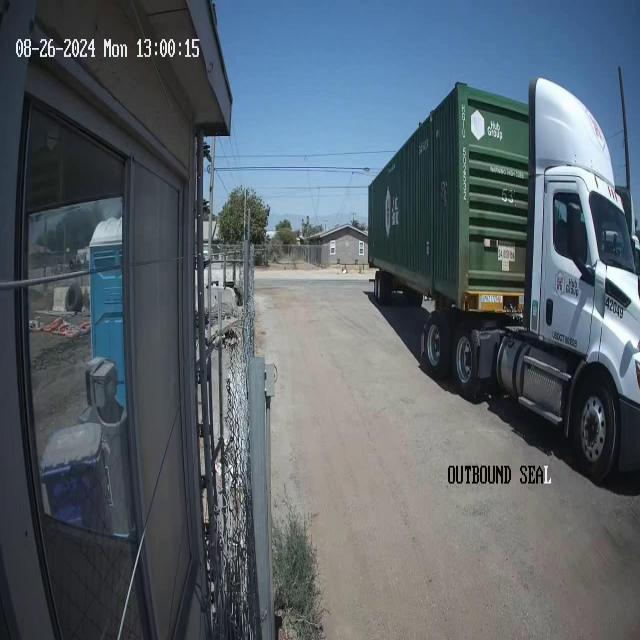TRUCK_IN: (367, 71, 639, 485)
